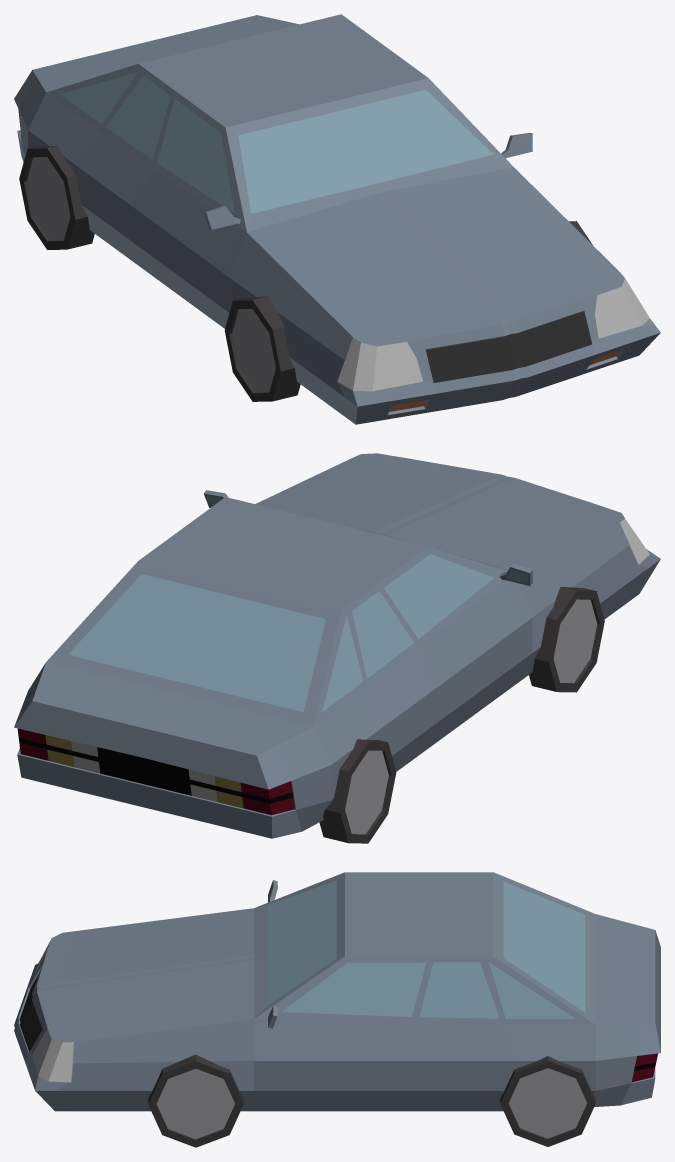
The model's file is Car - 90s sedan.fbx.
3 renders of one model, top to bottom at view 1: azimuth 30°, elevation 25°; view 2: azimuth 150°, elevation 25°; view 3: azimuth 270°, elevation 25°, orthographic. The views are drawn at different scales.
Visible parts, largest first — view 1: Cube; view 2: Cube; view 3: Cube.
Part boxes in pixels (box(x1,y1,x2,y2)): Cube: box(14, 14, 660, 424); Cube: box(14, 453, 660, 843); Cube: box(14, 872, 660, 1147).
Bounding box in the file's own units: 225 × 129 × 454.
